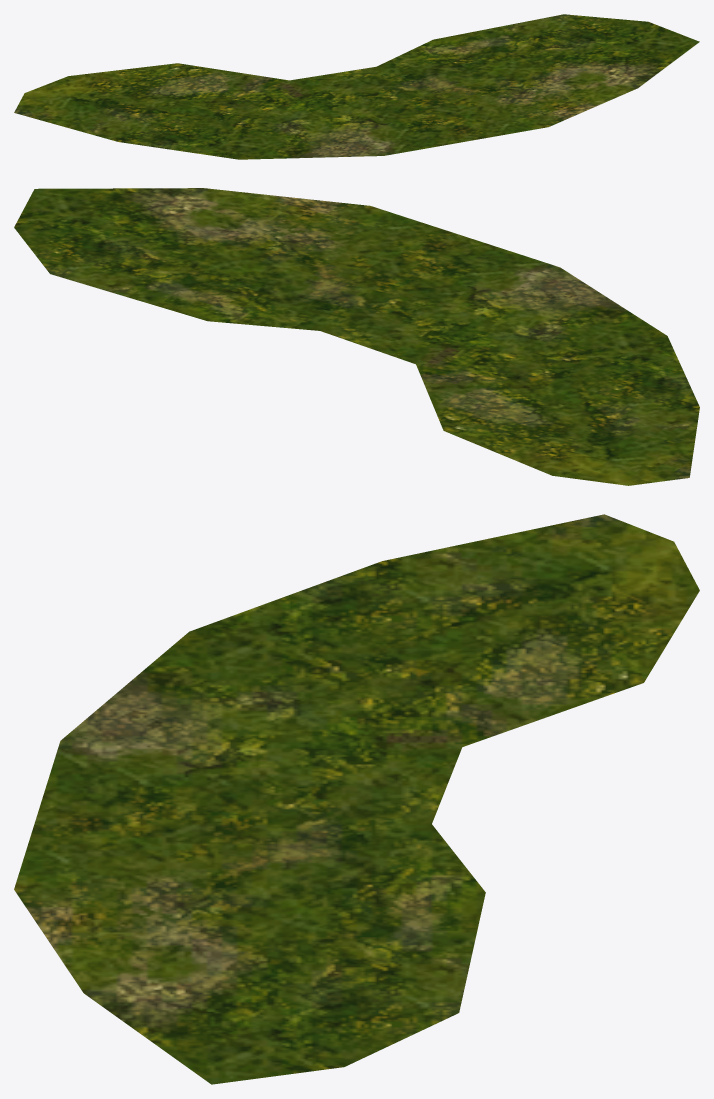
Rendered from OVERHILL_A_01_LINE313.fbx.
3 views of the same model, one above another, from view 1: azimuth 30°, elevation 25°; view 2: azimuth 150°, elevation 25°; view 3: azimuth 270°, elevation 25° (orthographic). The views are drawn at different scales.
Visible parts, largest first — view 1: OVERHILL_A_01_LINE313; view 2: OVERHILL_A_01_LINE313; view 3: OVERHILL_A_01_LINE313.
Part boxes in pixels (box(x1,y1,x2,y2)): OVERHILL_A_01_LINE313: box(14, 14, 699, 159); OVERHILL_A_01_LINE313: box(14, 188, 699, 485); OVERHILL_A_01_LINE313: box(14, 514, 699, 1084).
Size of the model in its own units: 42193 by 0.00646 by 21448.
Materials: 1 (1 with a texture image).
